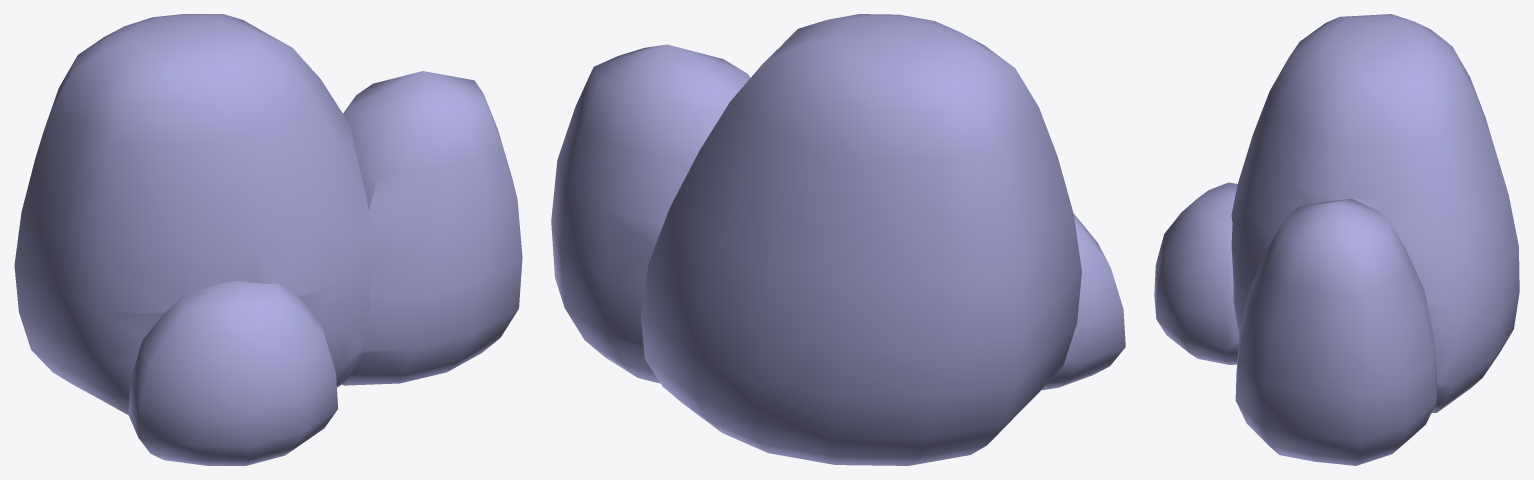
Rendered from Ghostly_Ore.glb.
3 views of the same model, side by side, from view 1: azimuth 30°, elevation 25°; view 2: azimuth 150°, elevation 25°; view 3: azimuth 270°, elevation 25° (orthographic). The views are drawn at different scales.
Visible parts, largest first — view 1: Ghostly_Ore; view 2: Ghostly_Ore; view 3: Ghostly_Ore.
Boxes of the visible parts, <box> form: Ghostly_Ore: <box>14,14,522,465</box>; Ghostly_Ore: <box>551,14,1125,465</box>; Ghostly_Ore: <box>1154,14,1519,465</box>.
Size of the model in its own units: 1.36 by 0.9856 by 1.05.
